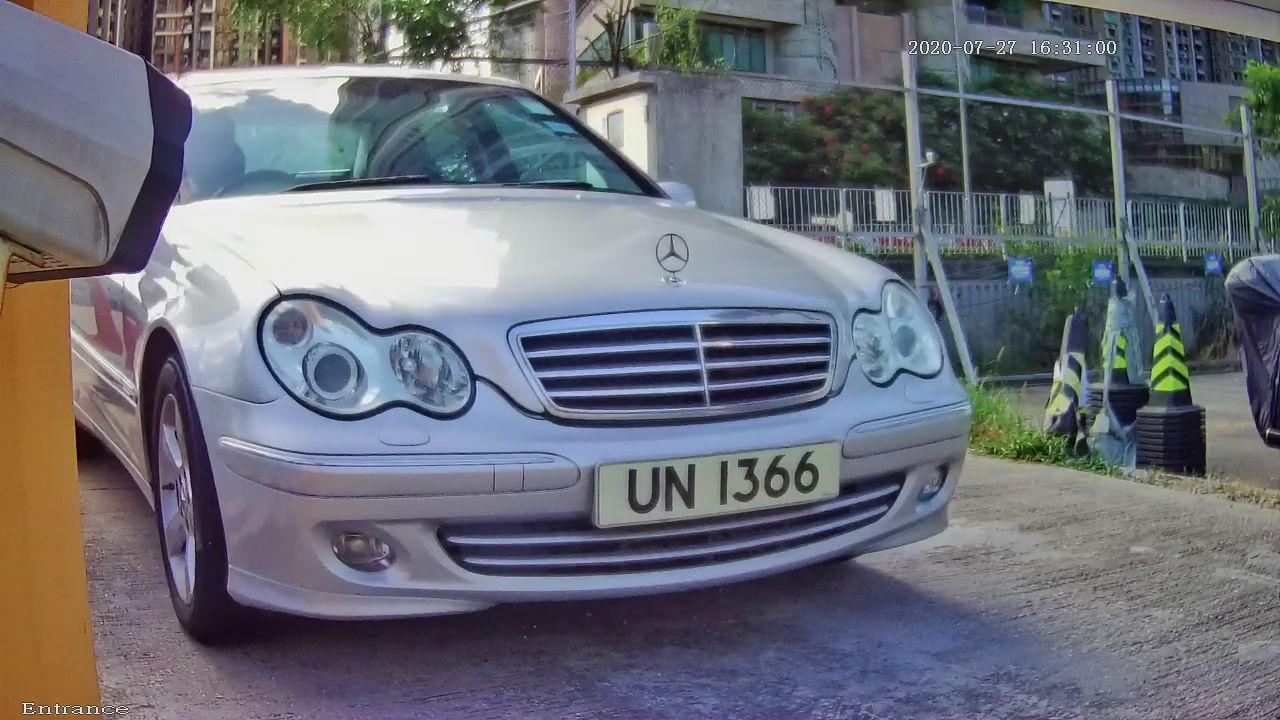privatecar: (75, 10, 1063, 666)
